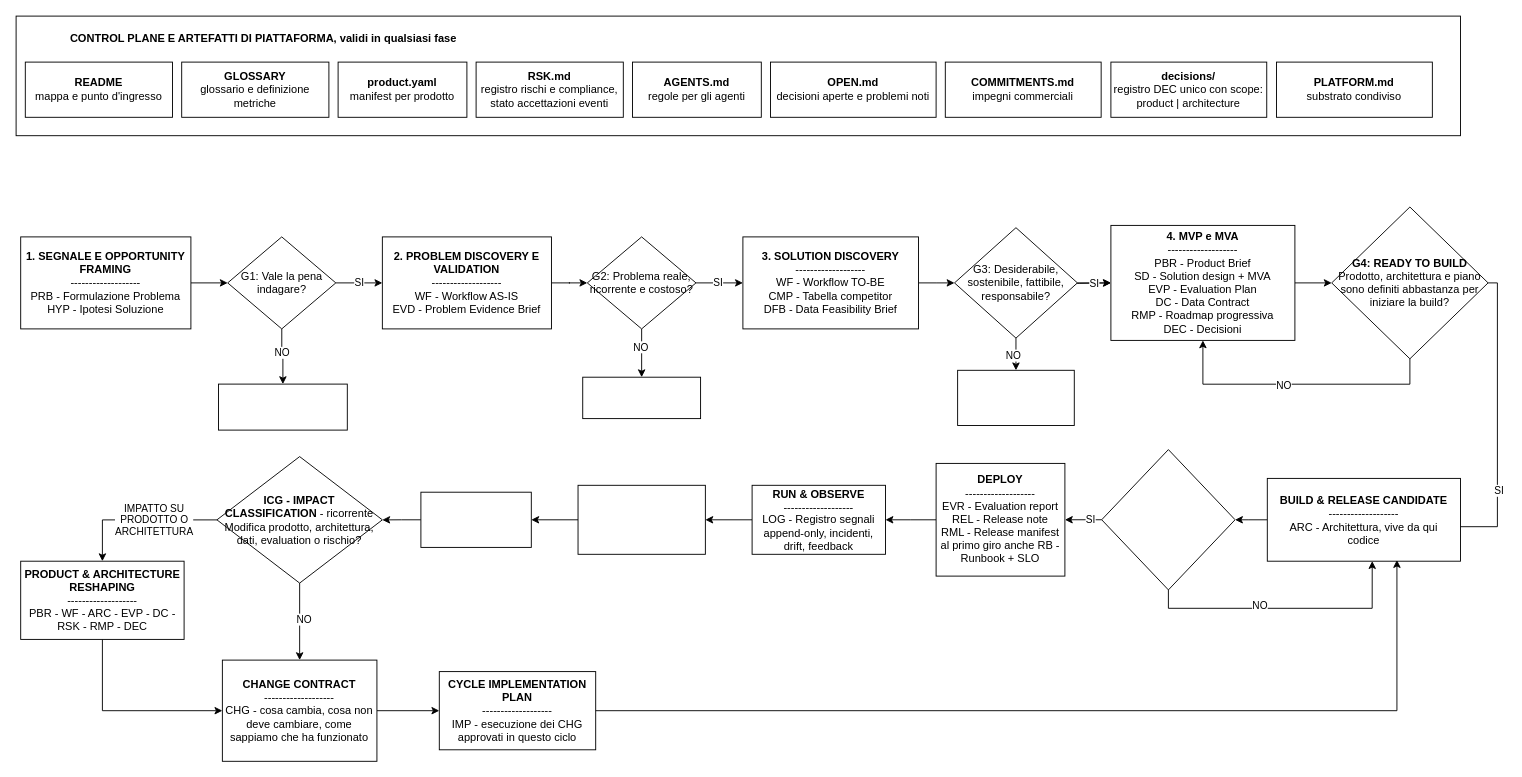
Image size: 1522x777. Some labels were removed from this diagram. The shapes that lost their labels are listed below. From the top down, each one's centre as x and y in pixels, then its label:
At [282,406]: "ARCHIVIO DEC di non proseguimento".
At [641,397]: "STOP o RIFORMULA DEC + nuova HYP".
At [1015,397]: "STOP o PIVOT DEC di rinuncia + gap dati registro".
At [475,519]: "TRIAGE E IMPACT ASSESSMENT".
At [641,519]: "CHANGE INTAKE ------------------- IMP - Implementation Plan".
At [1168,519]: "RG: RELEASE GATE Soglie dell'EVP congelato superate?".
